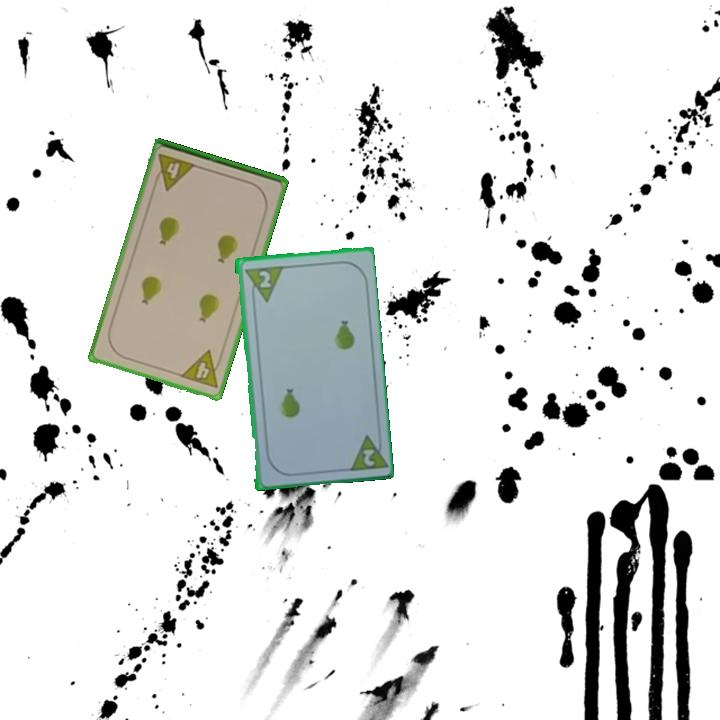2p: (241, 262, 284, 305), (359, 445, 377, 469)
4p: (177, 347, 226, 391), (150, 150, 199, 193)
